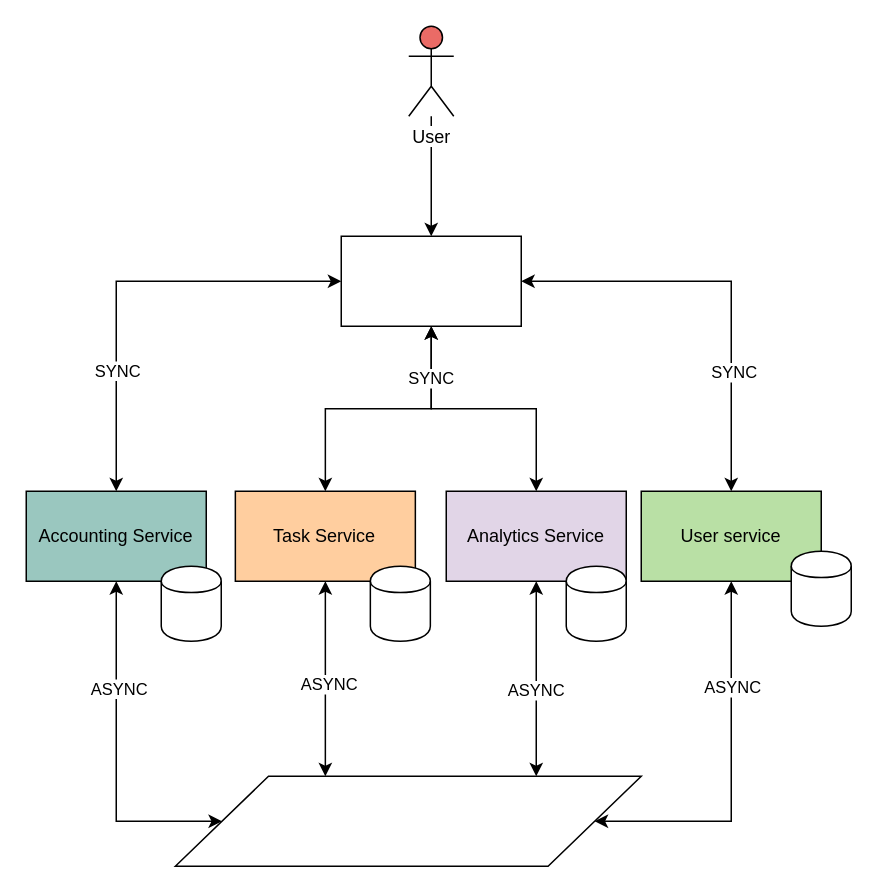
Some shapes in this 878 by 893 pixel diagram are drawn without their labels. Each missing label, with the centre of its shape:
Auth Service: pixel 430 280
Broker: pixel 407 820
